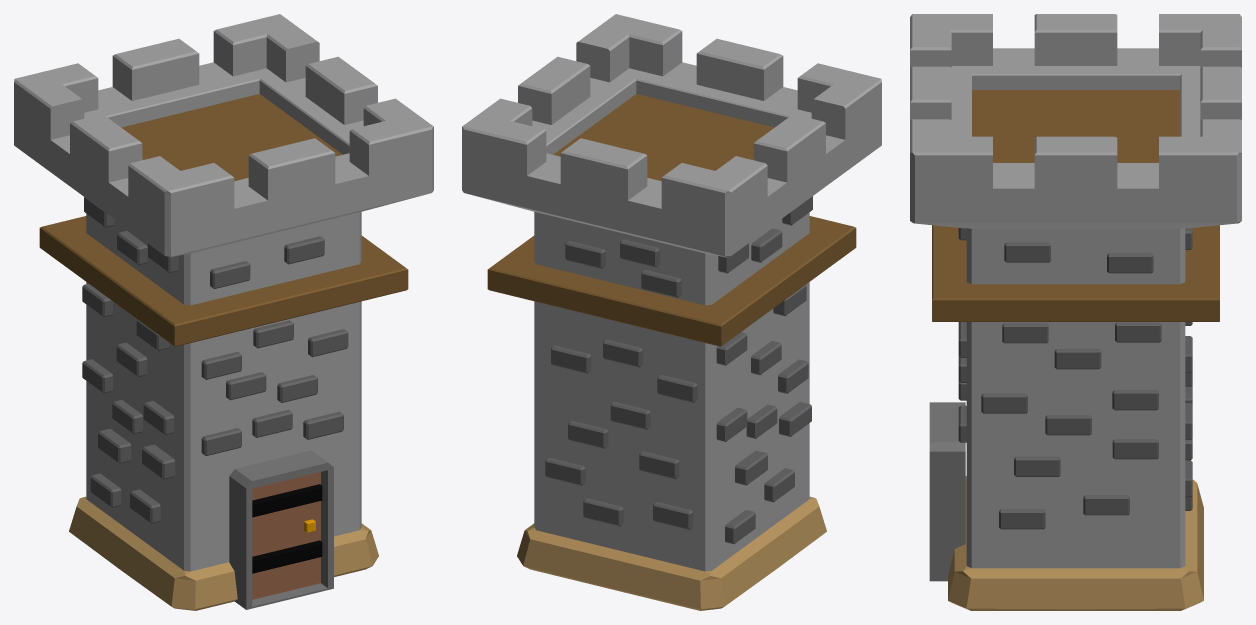
Rendered from Tower.fbx.
3 views of the same model, side by side, from view 1: azimuth 30°, elevation 25°; view 2: azimuth 150°, elevation 25°; view 3: azimuth 270°, elevation 25° (orthographic). The views are drawn at different scales.
Visible parts, largest first — view 1: Tower; view 2: Tower; view 3: Tower.
Boxes of the visible parts, x1=… form: Tower: x1=14, y1=14, x2=433, y2=610; Tower: x1=462, y1=14, x2=881, y2=610; Tower: x1=910, y1=14, x2=1241, y2=610.
Bounding box in the file's own units: 185 × 293 × 185.
